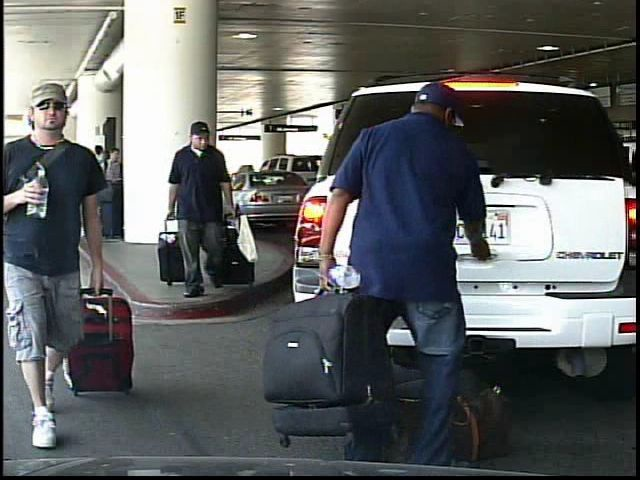person: (313, 75, 505, 473), (5, 80, 134, 453), (159, 120, 248, 300)
